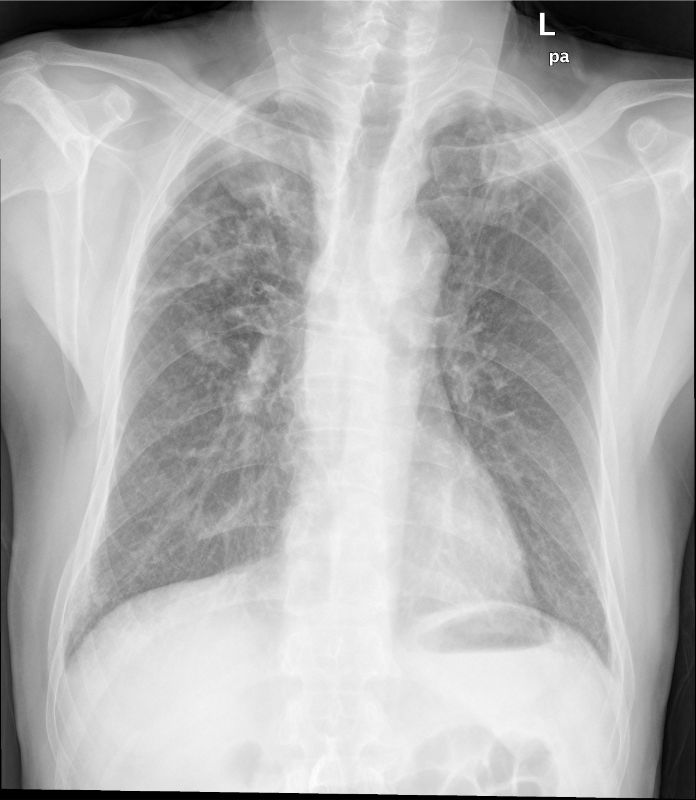Tuberculosis (TB): (169, 173, 289, 366)
